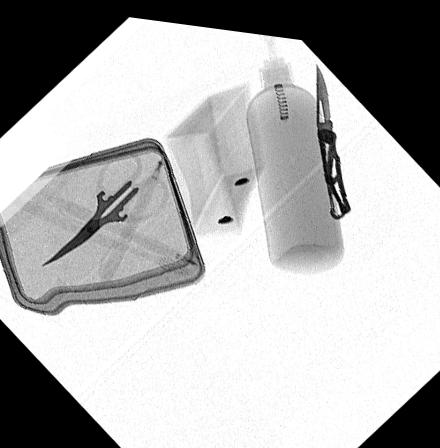Knife: (316, 53, 350, 209)
Scissors: (40, 142, 166, 264)
